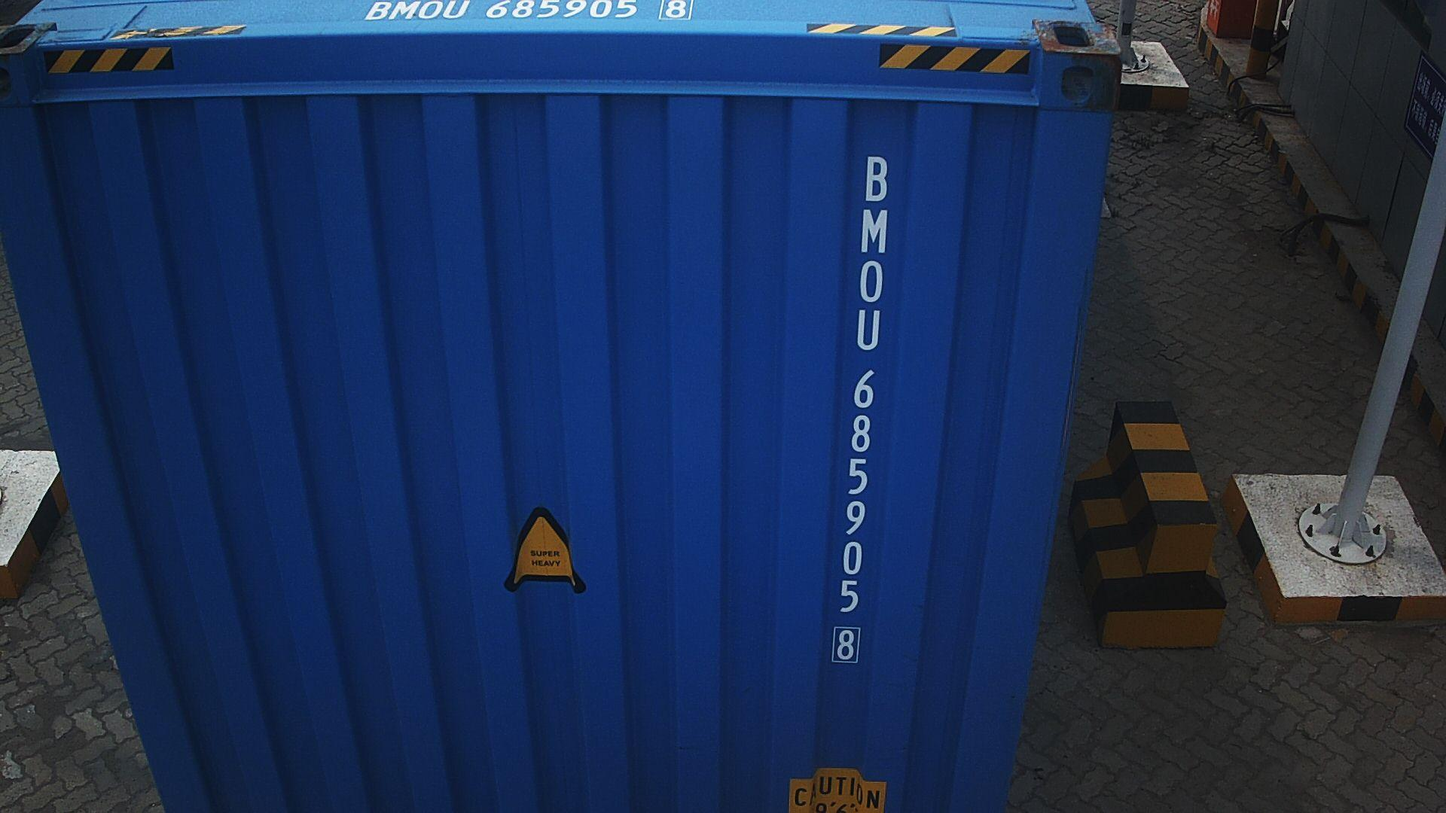container-numbers: (826, 151, 895, 666), (352, 0, 700, 25)
